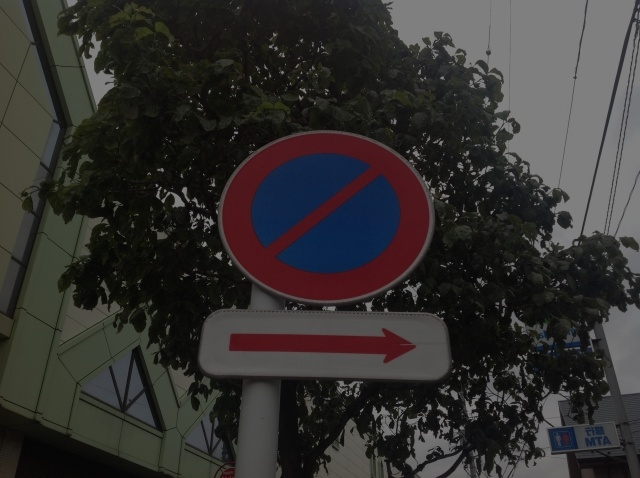Prohibition_sign: (199, 126, 458, 307)
